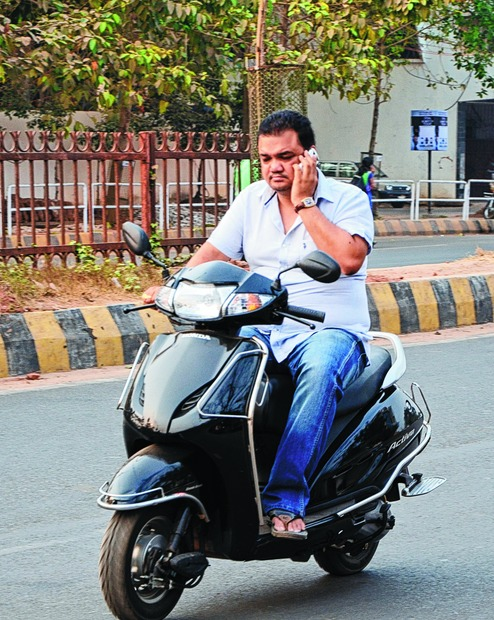dieu khien xe may: (122, 105, 361, 521)
su dung dien thoai: (258, 109, 325, 224)
